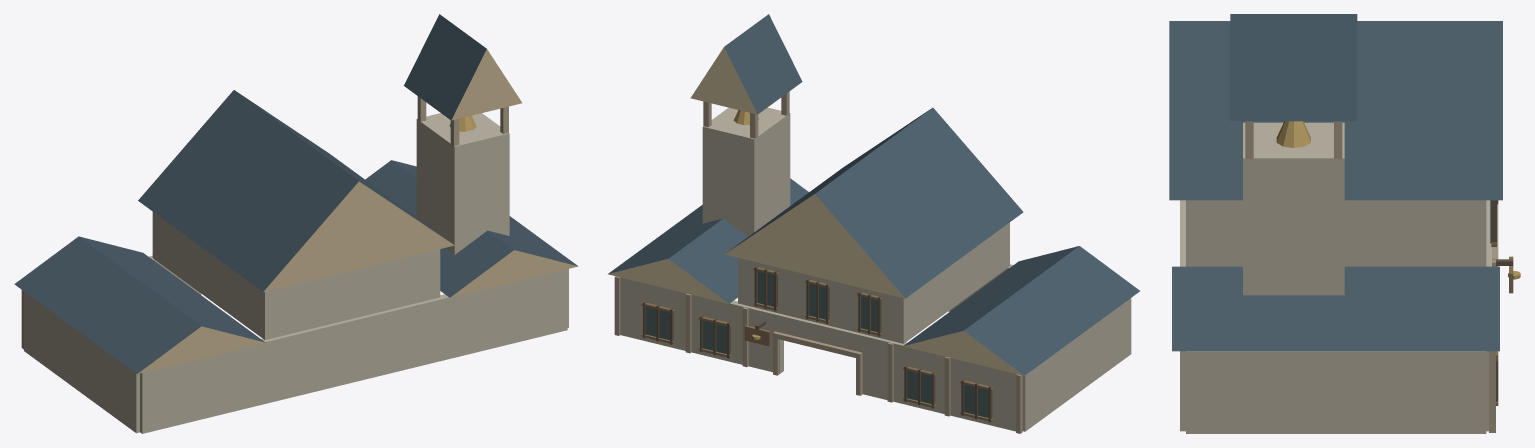
File: TownEx_Chapel_Cover.fbx
The picture shows the model from 3 angles, left to right: view 1: azimuth 30°, elevation 25°; view 2: azimuth 150°, elevation 25°; view 3: azimuth 270°, elevation 25°; orthographic projection. The views are drawn at different scales.
Parts seen in each view (by area): view 1: TownEx_Chapel_Cover; view 2: TownEx_Chapel_Cover; view 3: TownEx_Chapel_Cover.
Part boxes in pixels (box(x1,y1,x2,y2)): TownEx_Chapel_Cover: box(14, 14, 578, 433); TownEx_Chapel_Cover: box(608, 14, 1139, 433); TownEx_Chapel_Cover: box(1169, 14, 1520, 433).
Bounding box in the file's own units: 16.1 × 9.86 × 8.32.
